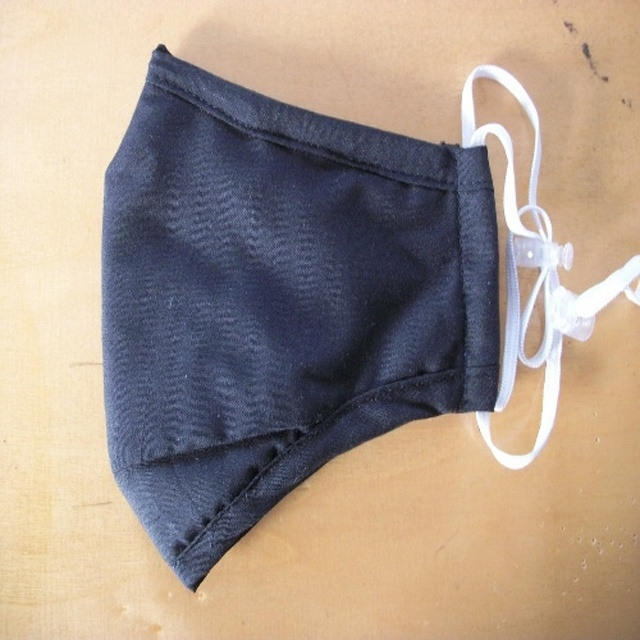mask: (98, 36, 640, 597)
